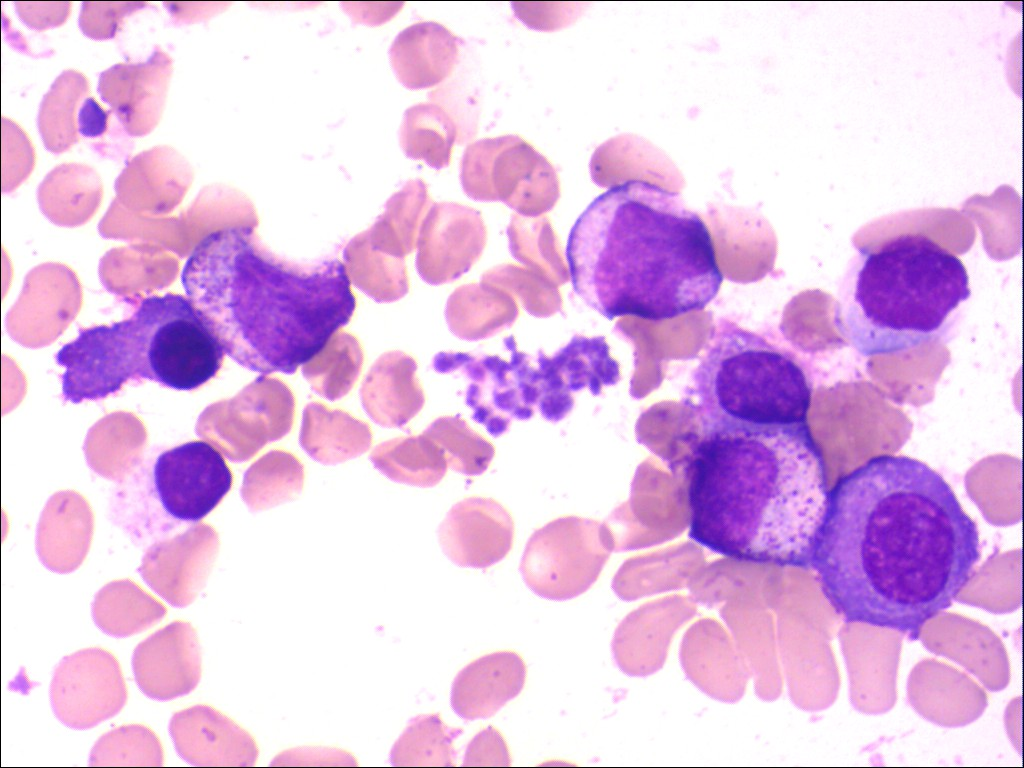3: (177, 222, 361, 380), (563, 175, 726, 326), (681, 424, 831, 571)
32: (828, 231, 975, 360), (110, 438, 236, 548)
51: (813, 453, 986, 644), (51, 289, 229, 407)
x: (684, 318, 822, 433)
